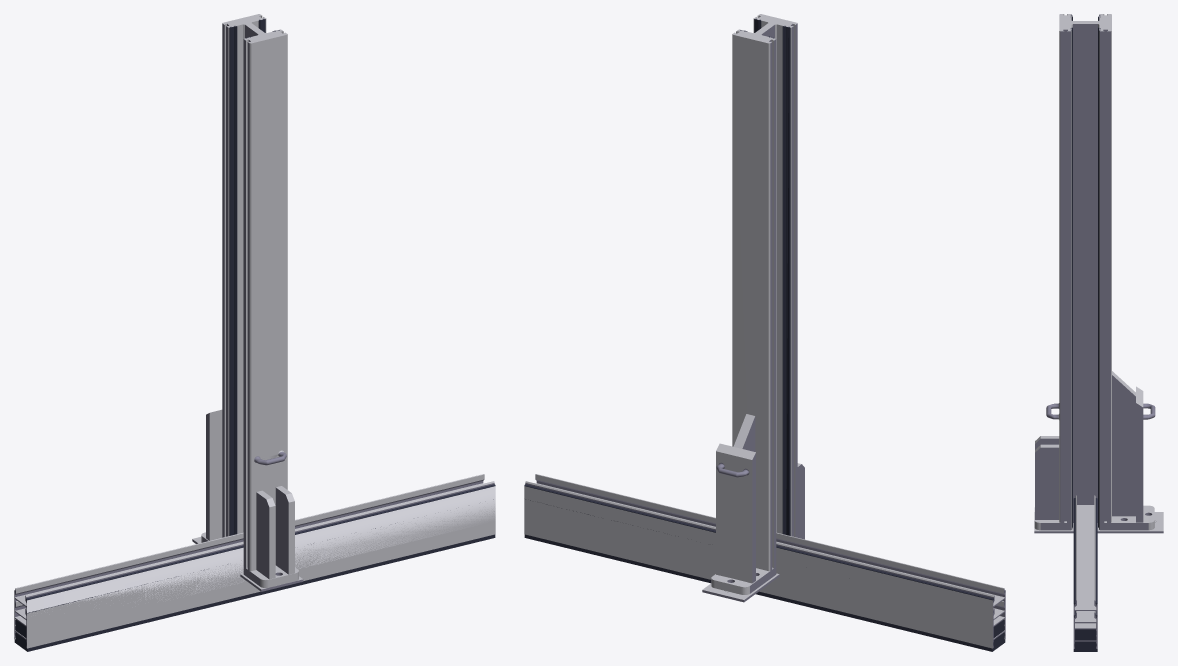
The model's file is MobileFloodOptimised.fbx.
3 renders of one model, left to right at view 1: azimuth 30°, elevation 25°; view 2: azimuth 150°, elevation 25°; view 3: azimuth 270°, elevation 25°, orthographic. The views are drawn at different scales.
Visible parts, largest first — view 1: Balken, BD100_PE, DBAL-150x100x5; view 2: Balken, BD100_PE, DBAL-150x100x5; view 3: Balken, BD100_PE, AP-1002K, DBAL-150x100x5.
Boxes of the visible parts, x1,y1,x2,y2 form: Balken: (201, 14, 298, 587); BD100_PE: (14, 474, 495, 651); DBAL-150x100x5: (14, 499, 495, 648); Balken: (711, 14, 804, 594); BD100_PE: (524, 474, 1005, 651); DBAL-150x100x5: (524, 499, 1005, 648); Balken: (1034, 14, 1155, 530); BD100_PE: (1073, 495, 1097, 651); AP-1002K: (1034, 512, 1163, 533); DBAL-150x100x5: (1073, 611, 1097, 648).
Bounding box in the file's own units: 210 × 240 × 53.76.
